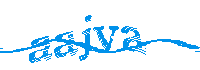a: (27, 34, 52, 63), (54, 29, 79, 58), (122, 25, 147, 54)
j: (79, 13, 93, 61)
v: (92, 25, 119, 52)
